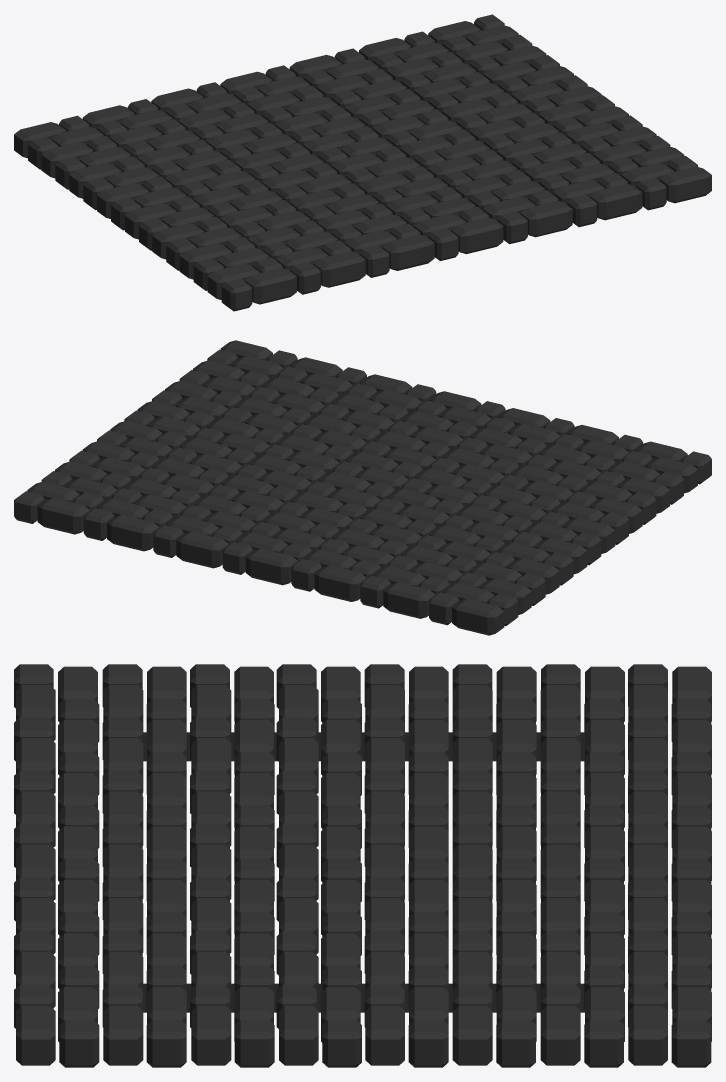
Rendered from CobbleStone.fbx.
3 renders of one model, top to bottom at view 1: azimuth 30°, elevation 25°; view 2: azimuth 150°, elevation 25°; view 3: azimuth 270°, elevation 25°, orthographic. The views are drawn at different scales.
Visible parts, largest first — view 1: Cube.001; view 2: Cube.001; view 3: Cube.001.
Boxes of the visible parts, x1,y1,x2,y2 form: Cube.001: (14, 14, 711, 311); Cube.001: (14, 340, 711, 635); Cube.001: (14, 664, 711, 1067).
Size of the model in its own units: 411 by 20.14 by 325.
